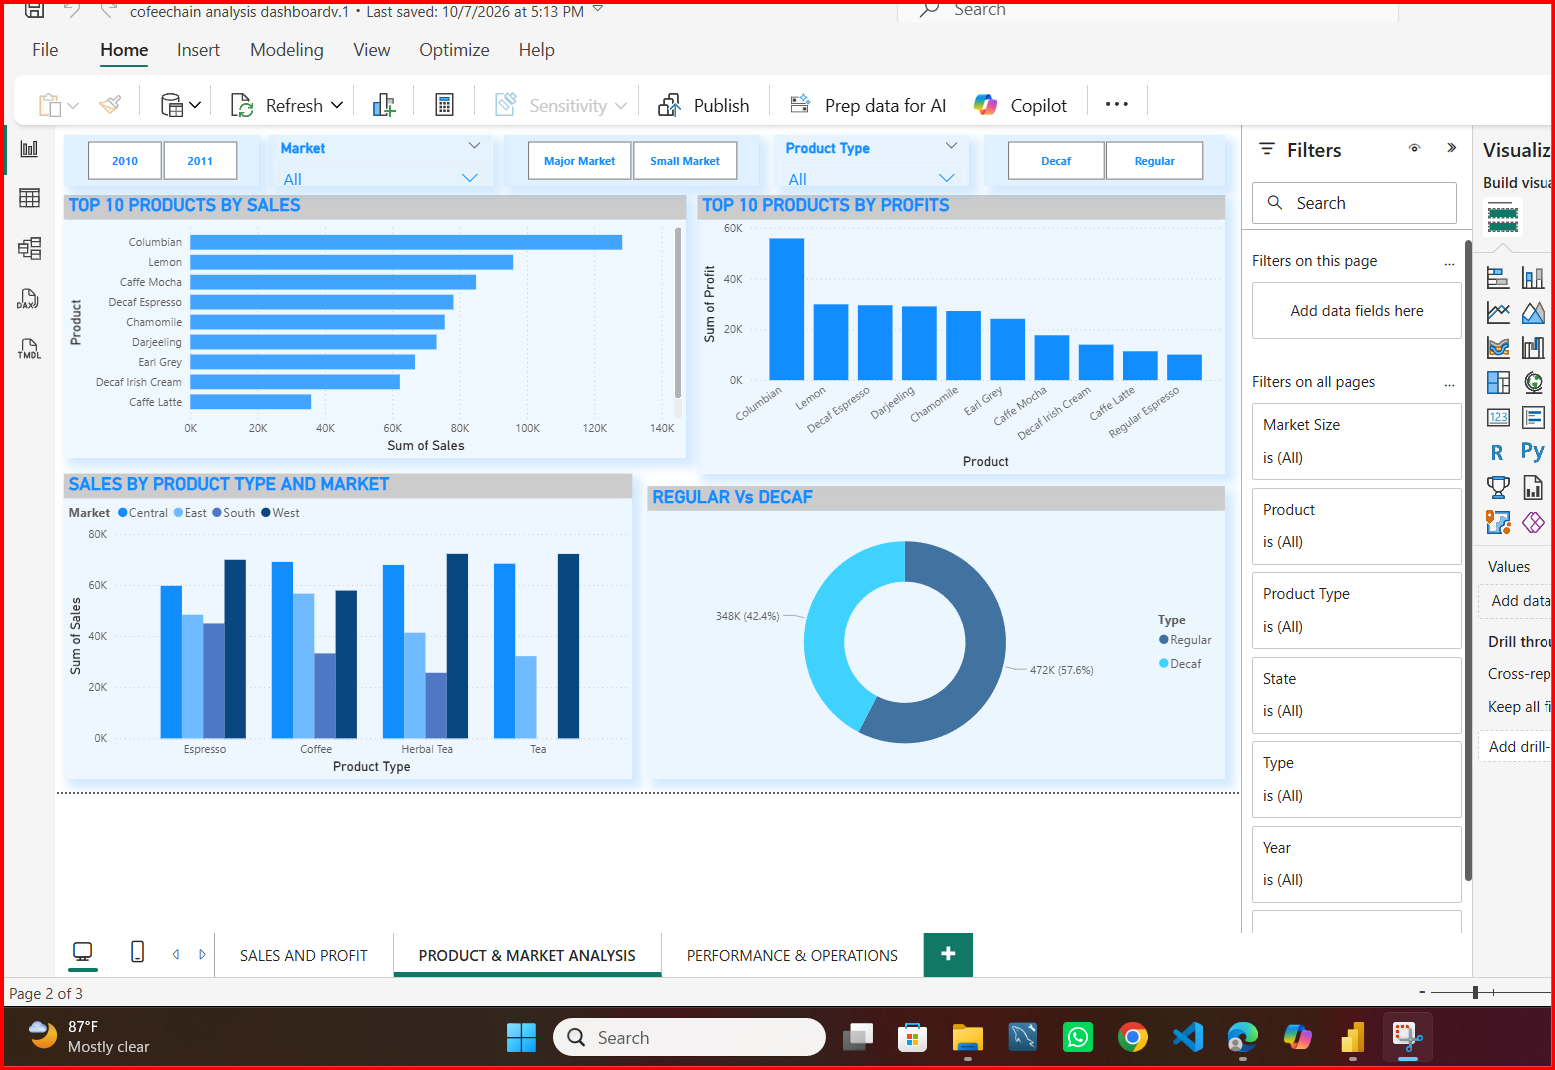

The page's visual inventory and layout, read from the dashboard file:
{"tool":"powerbi","page":{"name":"PRODUCT & MARKET ANALYSIS","canvas":[1280,720],"ordinal":1},"visuals":[{"type":"clusteredBarChart","title":"TOP 10 PRODUCTS BY SALES","fields":{"Category":["cofee chain.Product"],"Y":["Sum(cofee chain.Sales)"]},"box":[9.6,75.5,672.4,284],"z":0},{"type":"donutChart","title":"REGULAR Vs DECAF","fields":{"Category":["cofee chain.Type"],"Y":["Sum(cofee chain.Sales)"]},"box":[639.5,389.7,623,315.6],"z":1000},{"type":"clusteredColumnChart","title":"SALES BY PRODUCT TYPE AND MARKET","fields":{"Category":["cofee chain.Product Type"],"Series":["cofee chain.Market"],"Y":["Sum(cofee chain.Sales)"]},"box":[9.6,376,613.4,329.3],"z":2000},{"type":"clusteredColumnChart","title":"TOP 10 PRODUCTS BY PROFITS","fields":{"Category":["cofee chain.Product"],"Y":["Sum(cofee chain.Profit)"]},"box":[693.4,75.5,569.3,300.8],"z":3000},{"type":"slicer","fields":{"Values":["cofee chain.Year"]},"box":[9.6,11,211.3,54.9],"z":4000},{"type":"slicer","fields":{"Values":["cofee chain.Market"]},"box":[230.5,11,241.5,54.9],"z":5000},{"type":"slicer","fields":{"Values":["cofee chain.Market Size"]},"box":[484.4,11,275.8,54.9],"z":6000},{"type":"slicer","fields":{"Values":["cofee chain.Product Type"]},"box":[775.3,11,211.3,54.9],"z":7000},{"type":"slicer","fields":{"Values":["cofee chain.Type"]},"box":[1001.7,11,260.7,54.9],"z":8000}]}

Visuals, with their boxes on the page's 1280x720 design canvas (x1, y1, x2, y2). These are canvas units, not pixel positions in the 1555x1070 screenshot, which may show the page scaled, cropped or inside an application window:
"TOP 10 PRODUCTS BY SALES" clusteredBarChart: bbox=[10, 76, 682, 360]
"REGULAR Vs DECAF" donutChart: bbox=[640, 390, 1262, 705]
"SALES BY PRODUCT TYPE AND MARKET" clusteredColumnChart: bbox=[10, 376, 623, 705]
"TOP 10 PRODUCTS BY PROFITS" clusteredColumnChart: bbox=[693, 76, 1263, 376]
slicer - cofee chain.Year: bbox=[10, 11, 221, 66]
slicer - cofee chain.Market: bbox=[230, 11, 472, 66]
slicer - cofee chain.Market Size: bbox=[484, 11, 760, 66]
slicer - cofee chain.Product Type: bbox=[775, 11, 987, 66]
slicer - cofee chain.Type: bbox=[1002, 11, 1262, 66]
